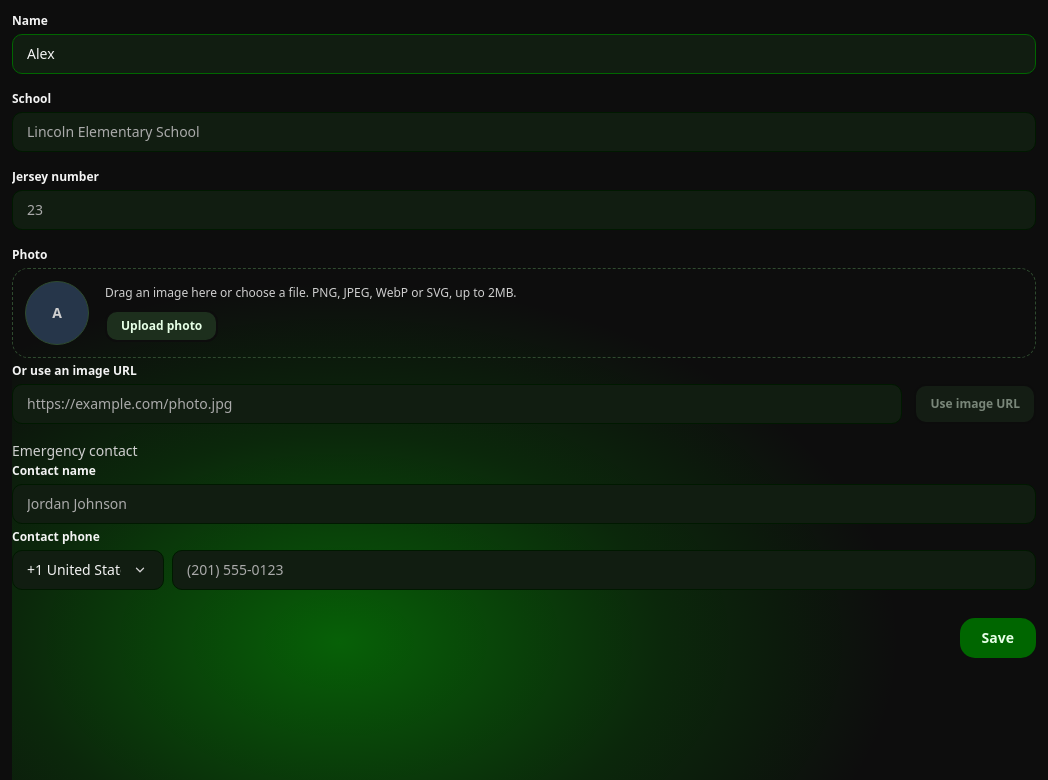
Test case: ProfileEditForm › shows a field-level toast on 403 CHILD_FIELD_NOT_EDITABLE without crashing
Click the button "Save" at [998, 638], box [960,618,1036,658]
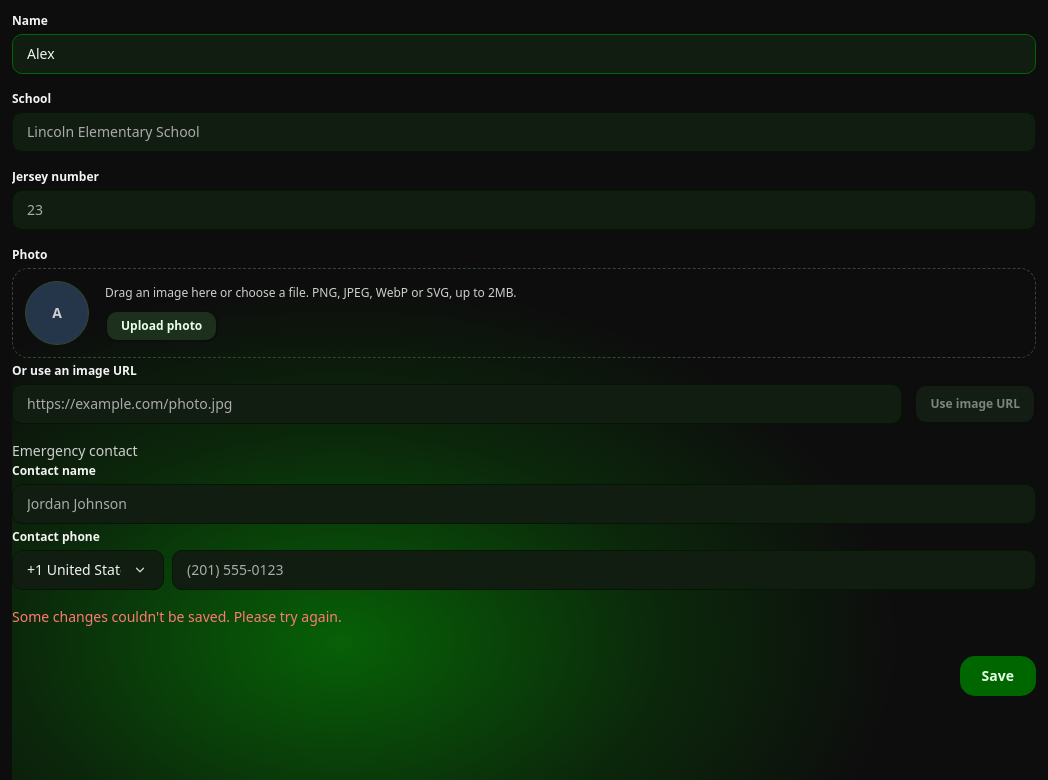
Expected: the message shows "couldn't be saved", [12,607,342,626]
